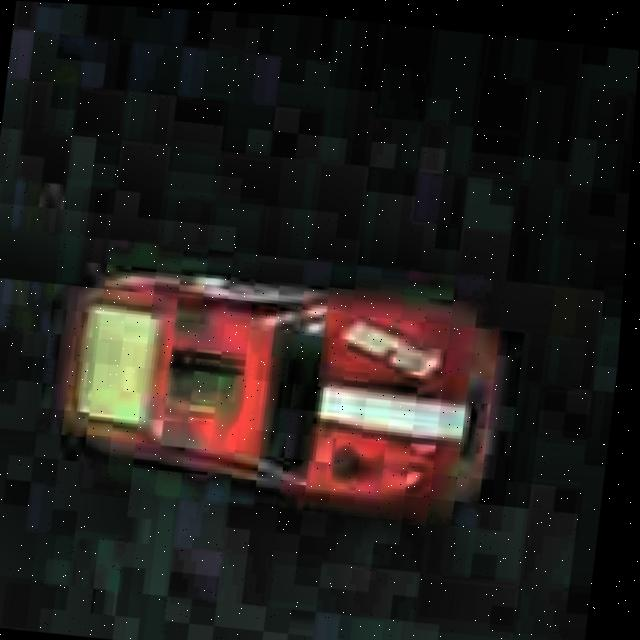car: (35, 250, 528, 529)
